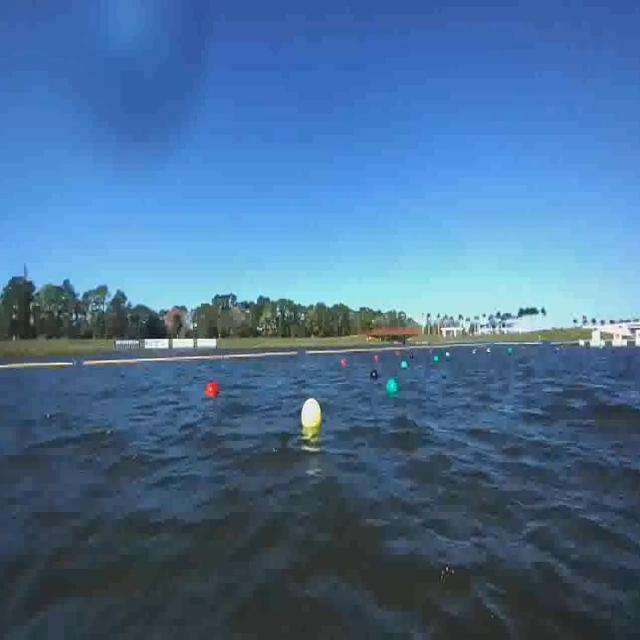black-buoy: (370, 368, 377, 378)
green-buoy: (384, 376, 396, 394)
red-buoy: (206, 379, 220, 397), (343, 359, 348, 367)
yellow-buoy: (300, 399, 320, 429)
